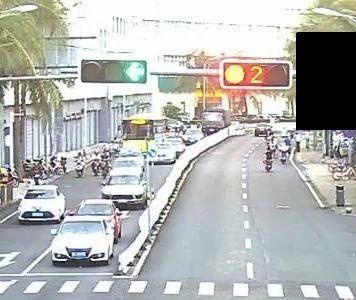greenleft: (124, 61, 145, 82)
red: (221, 63, 245, 87)
redtime: (247, 65, 266, 84)
